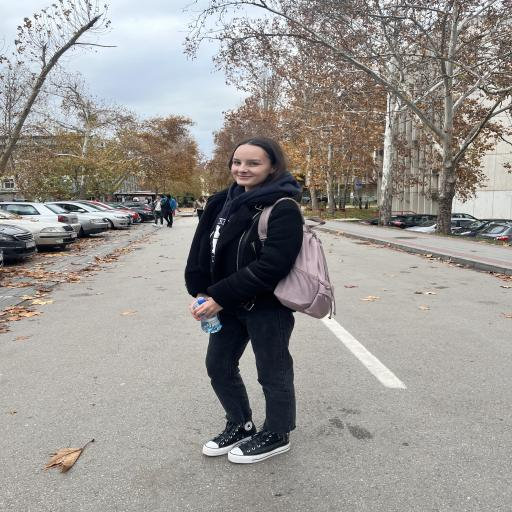marija: (232, 146, 274, 186)
